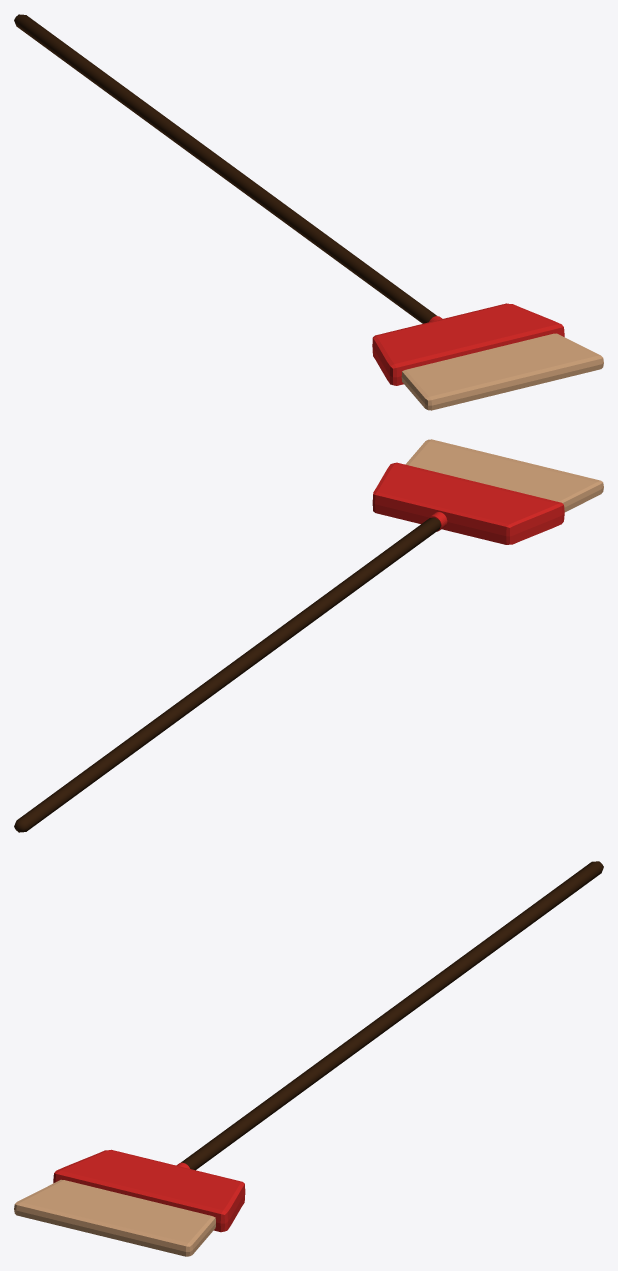
File: broom.fbx
3 views of the same model, one above another, from view 1: azimuth 30°, elevation 25°; view 2: azimuth 150°, elevation 25°; view 3: azimuth 330°, elevation 25° (orthographic).
Parts seen in each view (by area): view 1: Broom; view 2: Broom; view 3: Broom.
Part boxes in pixels (x1=…): Broom: x1=14, y1=14, x2=603, y2=410; Broom: x1=14, y1=439, x2=603, y2=832; Broom: x1=14, y1=861, x2=603, y2=1256.
Size of the model in its own units: 42.77 by 4.7 by 209.
